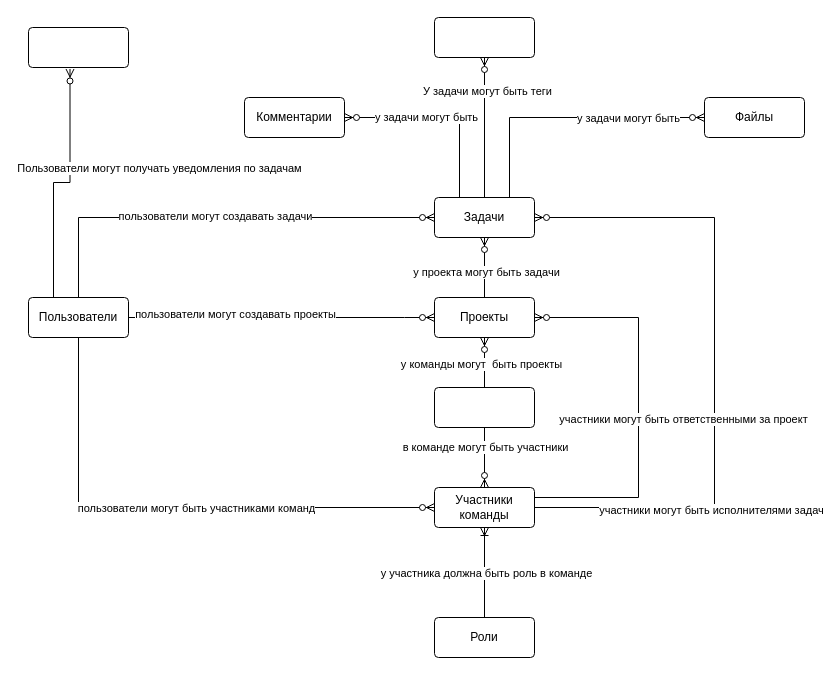
Some shapes in this 840 by 675 pixel diagram are drawn without their labels. The shapes that lost their labels are listed below. From the top down, each one's box as (x1, y1, x2, y2) in pixels, then its label:
(28, 26, 128, 68): Уведомления
(434, 16, 534, 58): Теги
(434, 386, 534, 428): Команда
